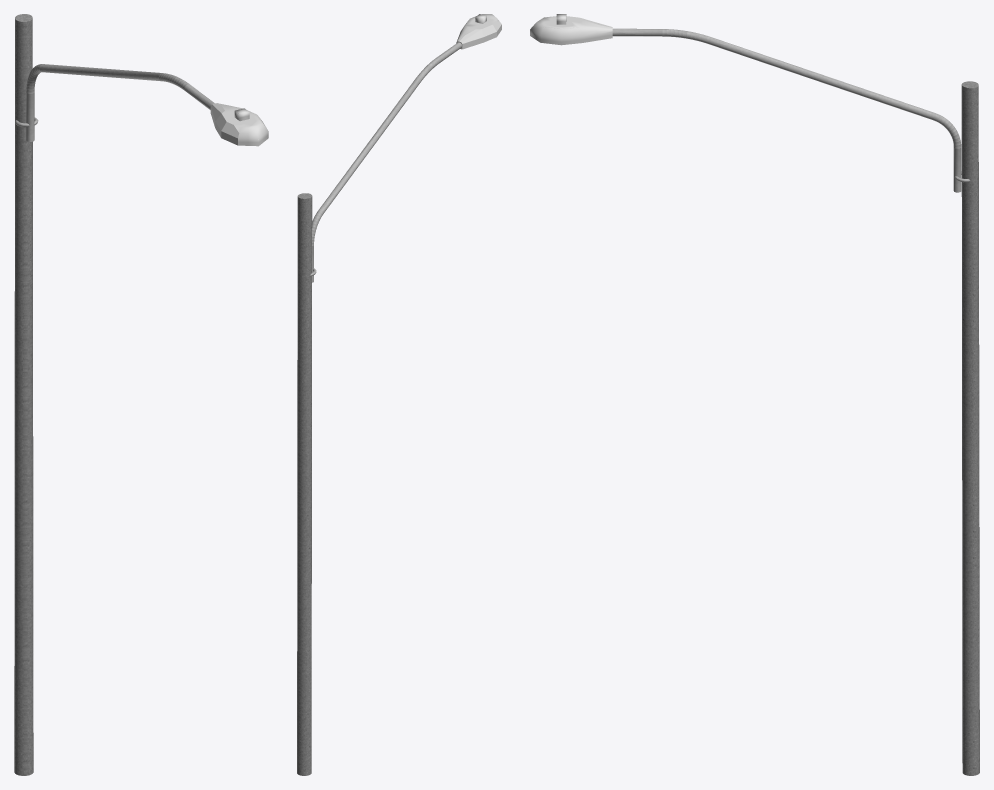
The model's file is Street Lamp 01.fbx.
3 renders of one model, left to right at view 1: azimuth 30°, elevation 25°; view 2: azimuth 150°, elevation 25°; view 3: azimuth 270°, elevation 25°, orthographic. The views are drawn at different scales.
Visible parts, largest first — view 1: Street_Lamp_01_LOD0; view 2: Street_Lamp_01_LOD0; view 3: Street_Lamp_01_LOD0.
Boxes of the visible parts, x1,y1,x2,y2 form: Street_Lamp_01_LOD0: (14,14,268,775); Street_Lamp_01_LOD0: (297,14,501,775); Street_Lamp_01_LOD0: (530,14,979,775).
Size of what is drawn, in the model's own units: 34.32 by 662 by 358.
1 material, 1 textured.
